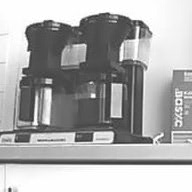empty coffee: (13, 71, 69, 132)
not empty coffee: (72, 69, 131, 131)
